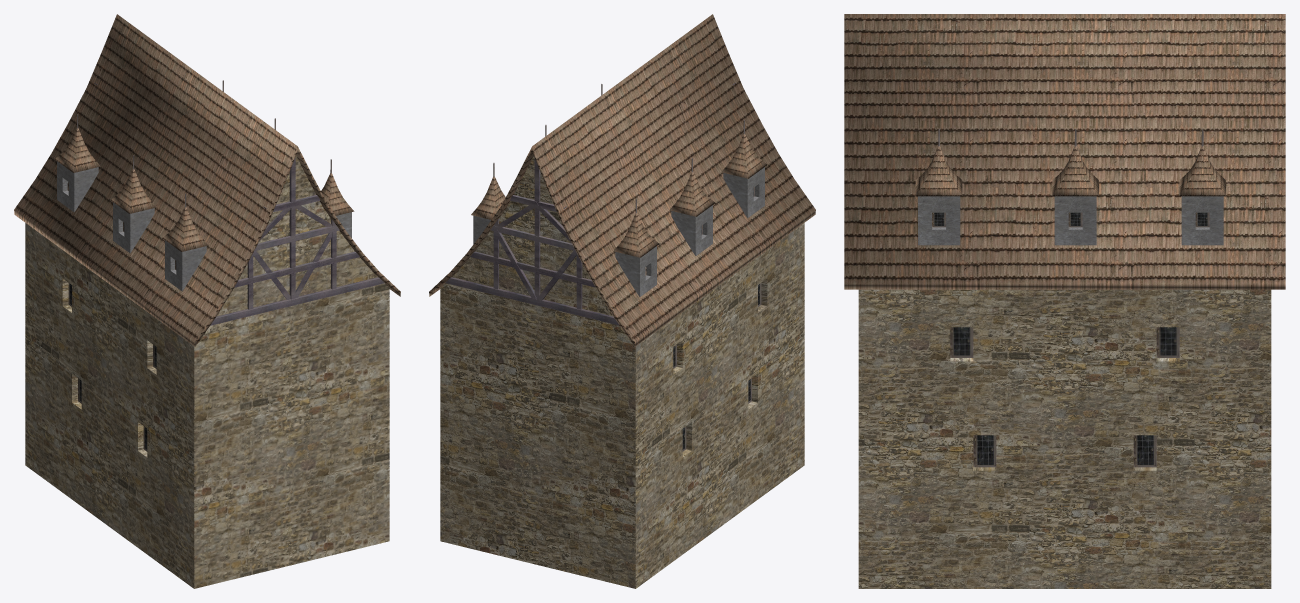
The model's file is castle_tower.obj.
3 views of the same model, side by side, from view 1: azimuth 30°, elevation 25°; view 2: azimuth 150°, elevation 25°; view 3: azimuth 270°, elevation 25° (orthographic). The views are drawn at different scales.
Visible parts, largest first — view 1: castle_tower; view 2: castle_tower; view 3: castle_tower.
Boxes of the visible parts, x1=… form: castle_tower: x1=14, y1=14, x2=400, y2=588; castle_tower: x1=429, y1=14, x2=815, y2=588; castle_tower: x1=844, y1=14, x2=1285, y2=588.
Size of the model in its own units: 13.51 by 26.5 by 20.53.
Materials: 5 (5 with a texture image).
